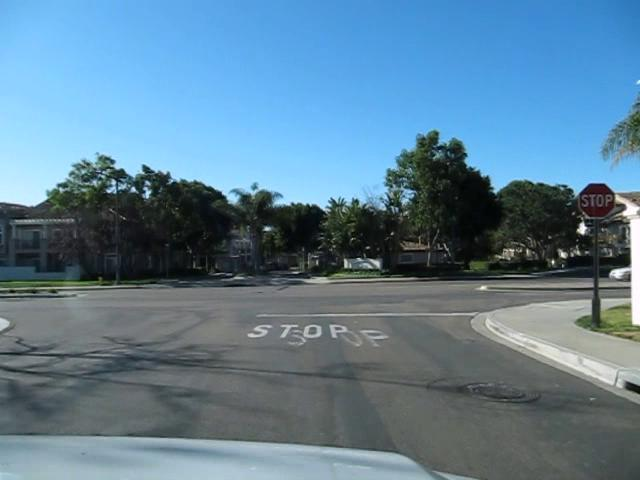stop: (578, 182, 616, 219)
